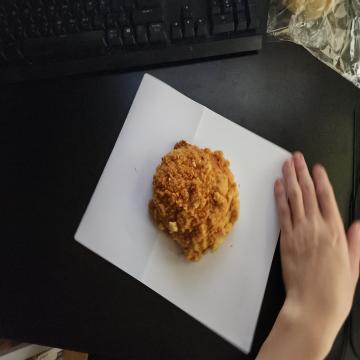soboru_bread: (143, 139, 243, 267)
